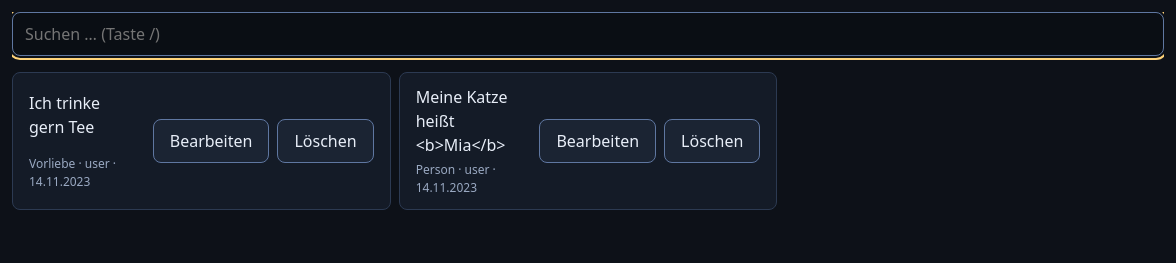
Test case: Gedächtnis › Bearbeiten: Speichern sendet Text, Art und confirm; Abbrechen sendet nichts
The image size is (1176, 263).
Check: the text "Ich trinke gern Tee" is shown, box [29,92,100,138]
Click the button "Bearbeiten" below "Ich trinke gern Tee" at (211, 141), box [153,119,269,163]
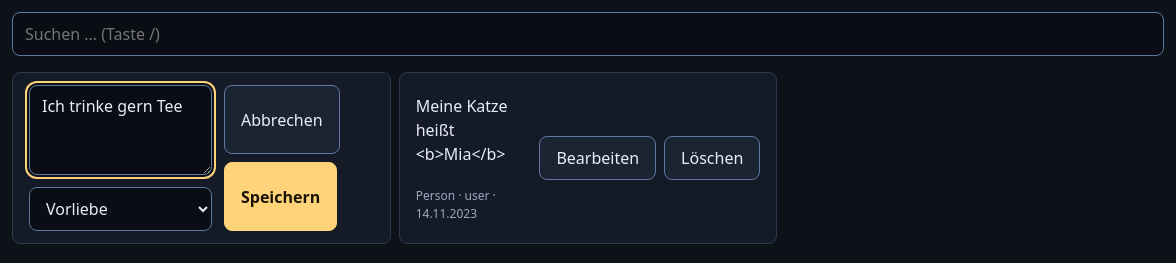
Click the button "Abbrechen" at (282, 120), box [224,85,340,154]
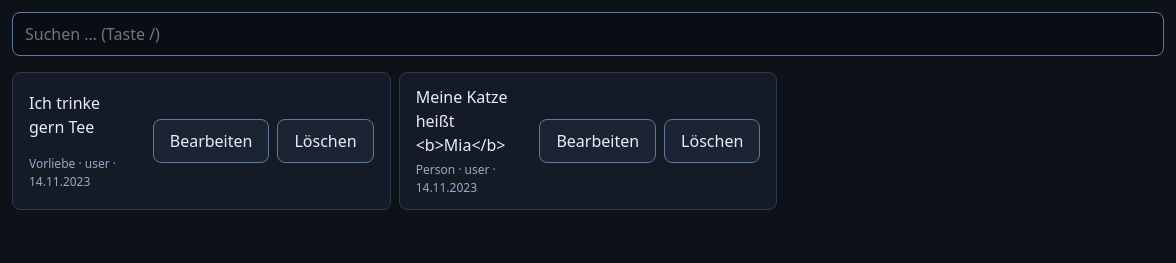
Click the button "Bearbeiten" below "Ich trinke gern Tee" at (211, 141), box [153,119,269,163]
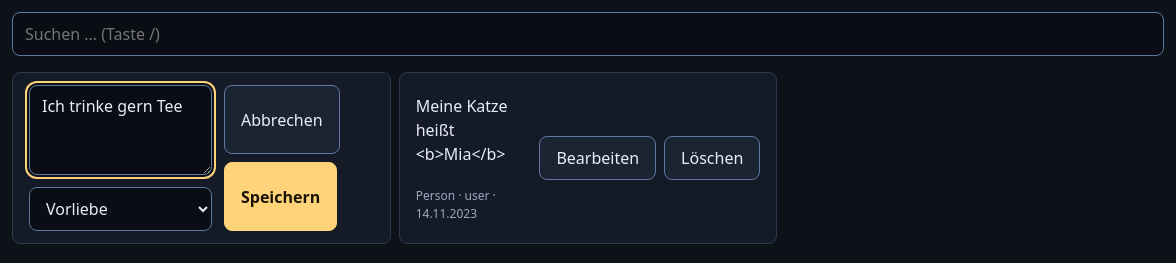
Replace the text in the text box named "Erinnerung bearbeiten" with "Ich trinke gern Kaffee" at (120, 130), box [29,85,212,175]
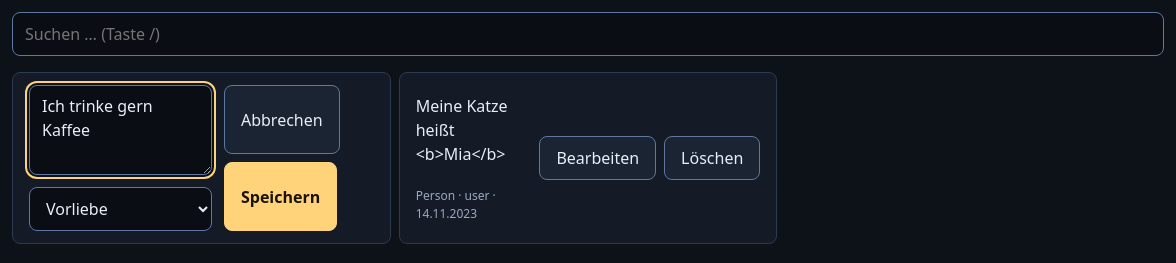
Select "Routine" in the dropdown named "Art" at (120, 209), box [29,187,212,231]
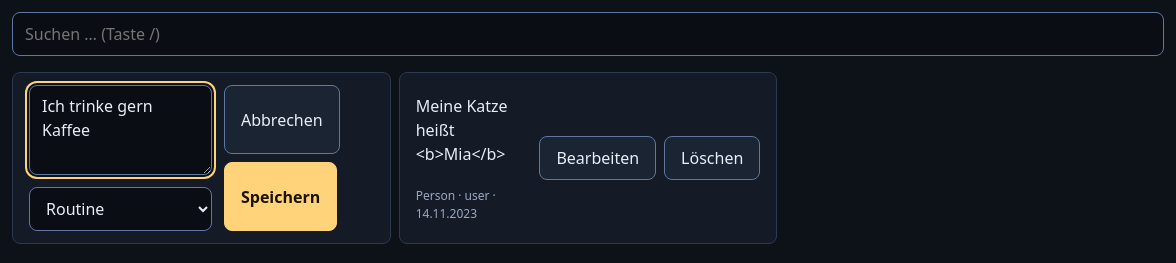
Click the button "Speichern" at (281, 196), box [224,162,337,231]
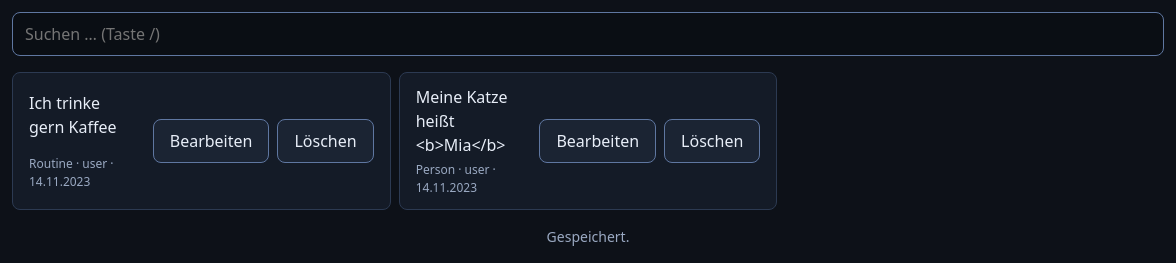
Check: the text "Ich trinke gern Kaffee" is shown, box [29,92,116,138]
Check: the text "Gespeichert." is shown, box [547,227,629,246]
